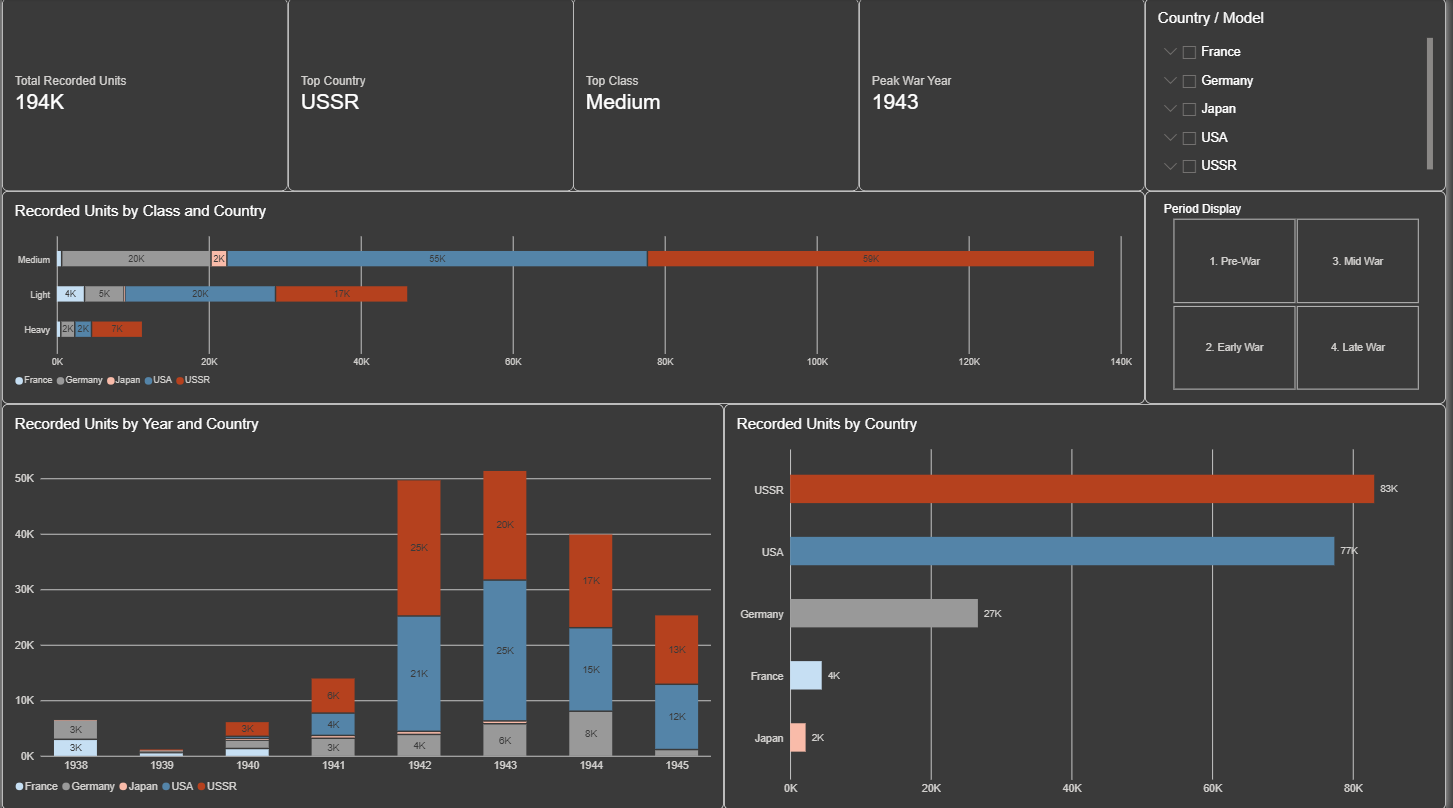

Layout of this report page (visuals, bound fields, positions):
{"tool":"powerbi","page":{"name":"Tank Production Overview","canvas":[1920,1080],"ordinal":0},"visuals":[{"type":"barChart","title":"Recorded Units by Country","fields":{"Category":["1.Country"],"Y":["Sum(1.Quantity)"]},"box":[960,540,960,540],"z":0},{"type":"columnChart","title":"Recorded Units by Year and Country","fields":{"Category":["1.Year"],"Series":["1.Country"],"Y":["Sum(1.Quantity)"]},"box":[0,540,960,540],"z":1000},{"type":"slicer","title":"Country / Model","fields":{"Values":["1.Country","1.Model"]},"box":[1520,0,400,257.1],"z":2000},{"type":"barChart","title":"Recorded Units by Class and Country","fields":{"Category":["1.Class"],"Series":["1.Country"],"Y":["Sum(1.Quantity)"]},"box":[0,257.1,1520,282.9],"z":3000},{"type":"cardVisual","fields":{"Data":["1.Total Recorded Units"]},"box":[0,0,380,257.1],"z":4000},{"type":"cardVisual","fields":{"Data":["1.Top Country"]},"box":[380,0,380,257.1],"z":5000},{"type":"cardVisual","fields":{"Data":["1.Top Class"]},"box":[760,0,380,257.1],"z":6000},{"type":"cardVisual","fields":{"Data":["1.Peak War Year"]},"box":[1140,0,380,257.1],"z":7000},{"type":"slicer","fields":{"Values":["1.Period Display"]},"box":[1520,257.1,400,283],"z":8000}]}

Visuals, with their boxes in screenshot pixels (x1, y1, x2, y2), scaled from the page's 1920x1080 canvas onto the 1453x808 screenshot:
"Recorded Units by Country" barChart: (726,404,1452,807)
"Recorded Units by Year and Country" columnChart: (0,404,726,807)
"Country / Model" slicer: (1150,0,1452,192)
"Recorded Units by Class and Country" barChart: (0,192,1150,404)
cardVisual - 1.Total Recorded Units: (0,0,288,192)
cardVisual - 1.Top Country: (288,0,575,192)
cardVisual - 1.Top Class: (575,0,863,192)
cardVisual - 1.Peak War Year: (863,0,1150,192)
slicer - 1.Period Display: (1150,192,1452,404)
